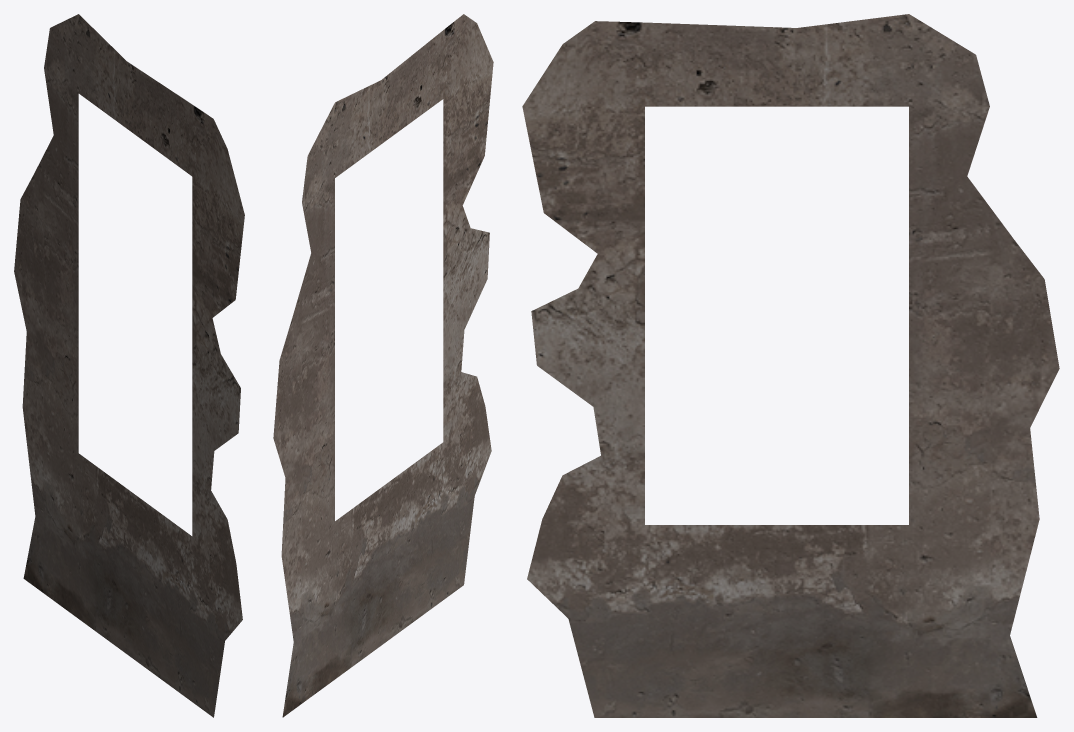
File: A2_LobbyWall_BrokenPiece.FBX
3 views of the same model, side by side, from view 1: azimuth 30°, elevation 25°; view 2: azimuth 150°, elevation 25°; view 3: azimuth 270°, elevation 25° (orthographic). The views are drawn at different scales.
Parts seen in each view (by area): view 1: A2_LobbyWall_BrokenPiece; view 2: A2_LobbyWall_BrokenPiece; view 3: A2_LobbyWall_BrokenPiece.
Part boxes in pixels (x1=…): A2_LobbyWall_BrokenPiece: x1=14, y1=14, x2=244, y2=717; A2_LobbyWall_BrokenPiece: x1=273, y1=14, x2=493, y2=717; A2_LobbyWall_BrokenPiece: x1=522, y1=14, x2=1059, y2=717.
Size of the model in its own units: 0.000241 by 294 by 204.
